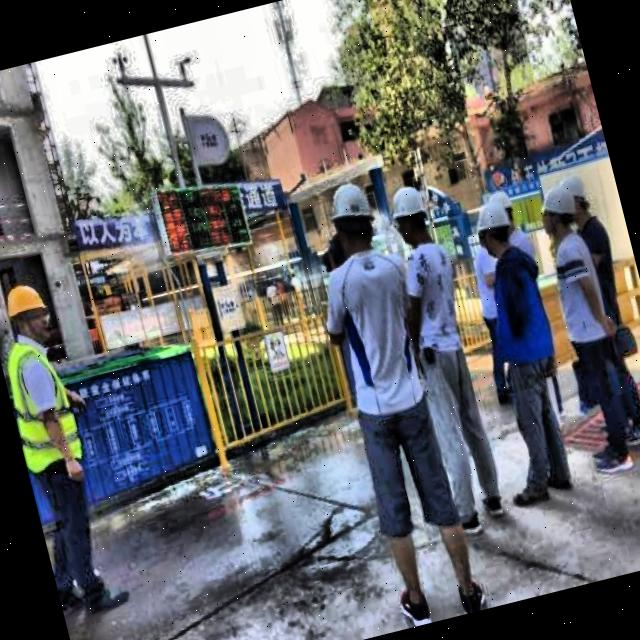helmet: (323, 172, 381, 258), (0, 271, 57, 351), (383, 176, 438, 250), (468, 196, 520, 265), (530, 180, 584, 242), (558, 170, 598, 224)
